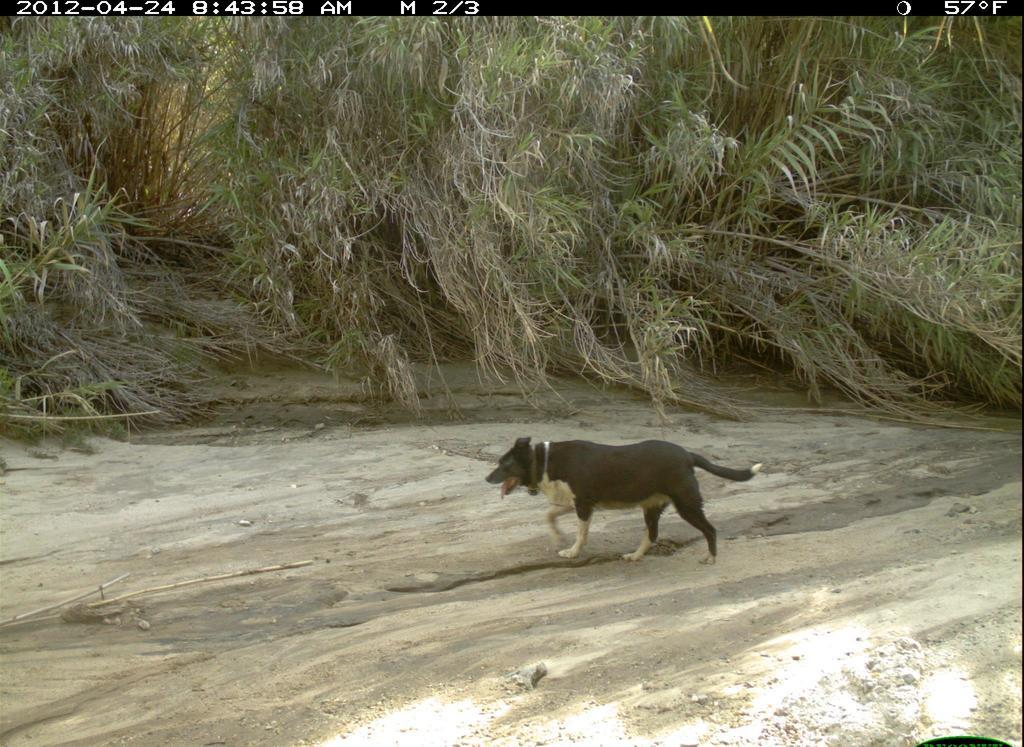dog: (487, 415, 769, 579)
